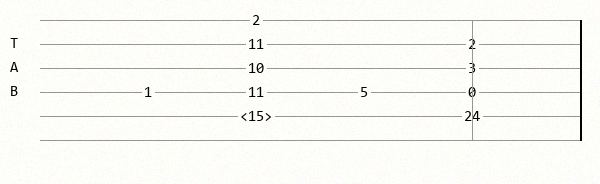0: (468, 85, 480, 99)
1: (144, 85, 156, 99)
10: (248, 61, 268, 75)
11: (248, 85, 268, 99), (248, 37, 268, 51)
2: (252, 13, 264, 27), (468, 37, 480, 51)
24: (464, 109, 484, 123)
3: (468, 61, 480, 75)
5: (360, 85, 372, 99)
harmonic: (240, 109, 276, 123)
